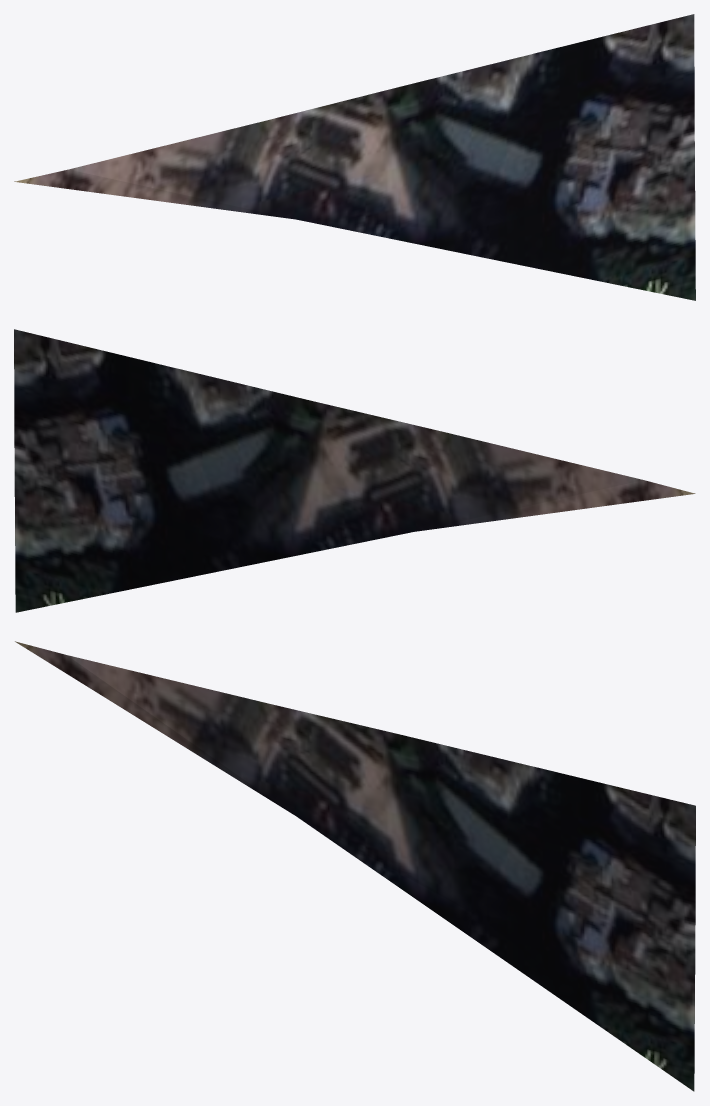
3 views of the same model, one above another, from view 1: azimuth 30°, elevation 25°; view 2: azimuth 150°, elevation 25°; view 3: azimuth 330°, elevation 25° (orthographic).
Parts seen in each view (by area): view 1: 0_0_3_2_0_1; view 2: 0_0_3_2_0_1; view 3: 0_0_3_2_0_1.
Part boxes in pixels (<box>): 0_0_3_2_0_1: <box>14,14,695,300</box>; 0_0_3_2_0_1: <box>14,329,695,612</box>; 0_0_3_2_0_1: <box>15,641,695,1091</box>.
Bounding box in the file's own units: 169 × 67.66 × 1.24.
1 material, 1 textured.
